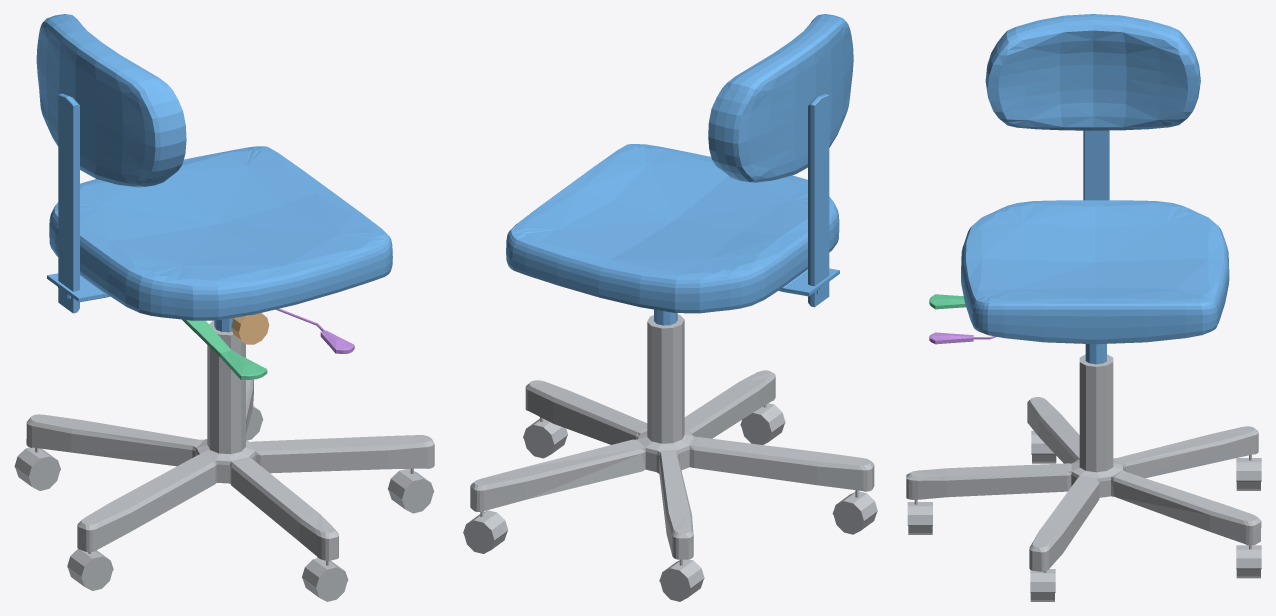
File: parts.glb
The picture shows the model from 3 angles, left to right: view 1: azimuth 30°, elevation 25°; view 2: azimuth 150°, elevation 25°; view 3: azimuth 270°, elevation 25°; orthographic projection. The views are drawn at different scales.
Visible parts, largest first — view 1: visual_1_0, visual_0_0, visual_3_0, visual_2_0, visual_4_0; view 2: visual_1_0, visual_0_0; view 3: visual_1_0, visual_0_0, visual_4_0, visual_3_0.
Part boxes in pixels (x1,y1,x2,y2): visual_1_0: (36, 14, 392, 332); visual_0_0: (14, 321, 434, 601); visual_3_0: (182, 319, 267, 379); visual_2_0: (230, 313, 269, 344); visual_4_0: (276, 308, 354, 353); visual_1_0: (506, 14, 853, 325); visual_0_0: (463, 314, 877, 601); visual_1_0: (961, 14, 1229, 364); visual_0_0: (906, 354, 1261, 601); visual_4_0: (929, 332, 996, 344); visual_3_0: (929, 294, 965, 309).
Size of the model in its own units: 1.12 by 1.55 by 1.09.
